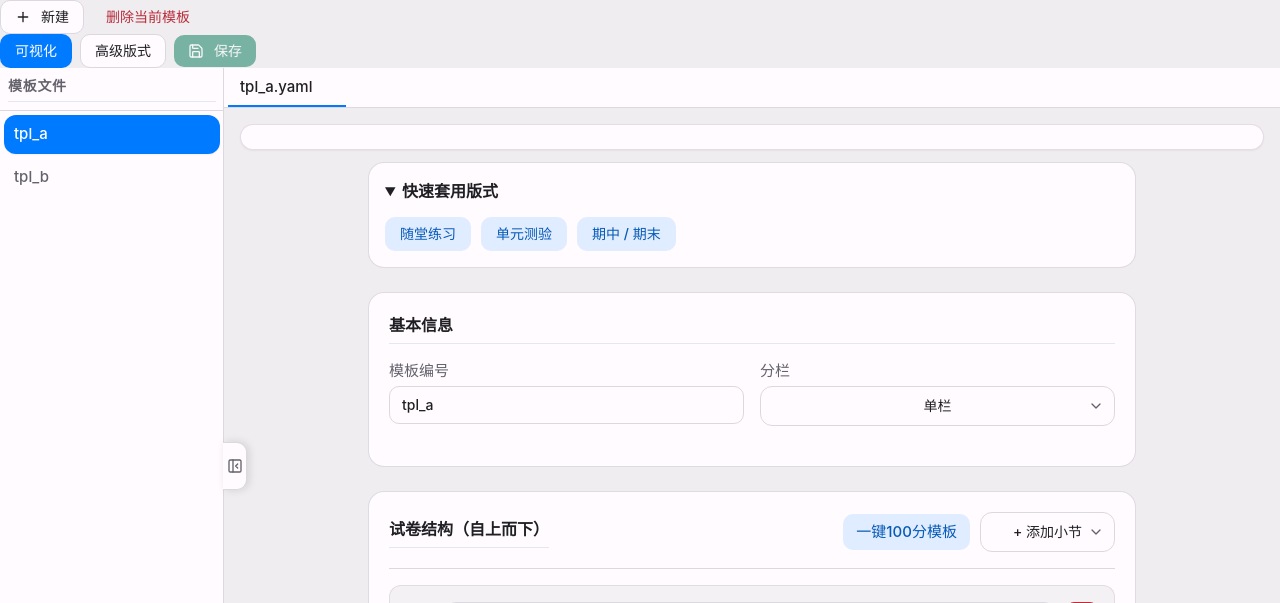
Test case: TemplateWorkspace async coordination › does not wipe out user typing when save response arrives
The image size is (1280, 603).
// User edits template_id to "tpl_a_edited"
Replace the text in the field showing "tpl_a" with "tpl_a_edited" at (566, 405), box [389,386,744,424]
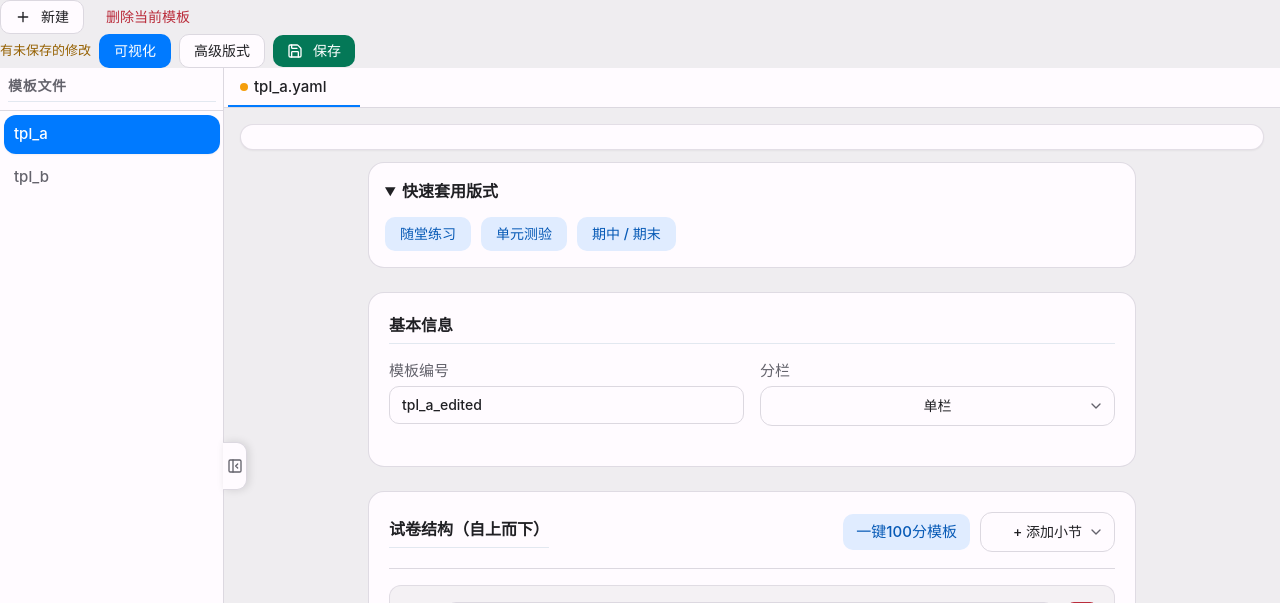
// User clicks save
Click the button "保存".
click(314, 51)  # box [273,35,355,67]
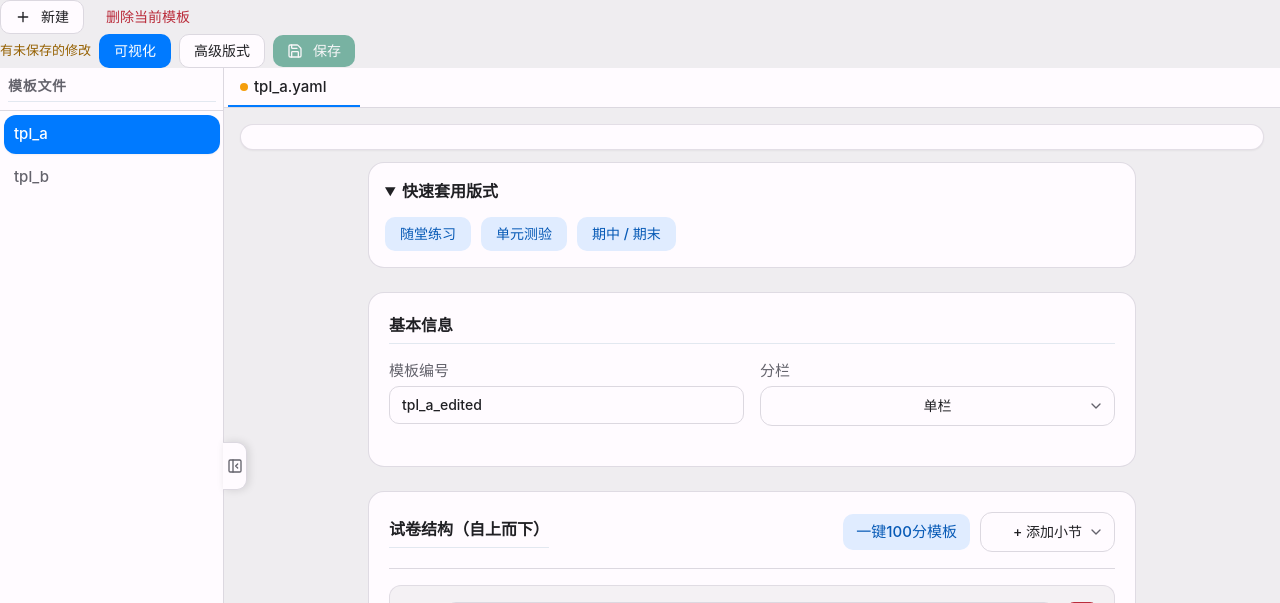
// While save is inflight, user continues typing
Replace the text in the field showing "tpl_a_edited" with "tpl_a_edited_further" at (566, 405), box [389,386,744,424]
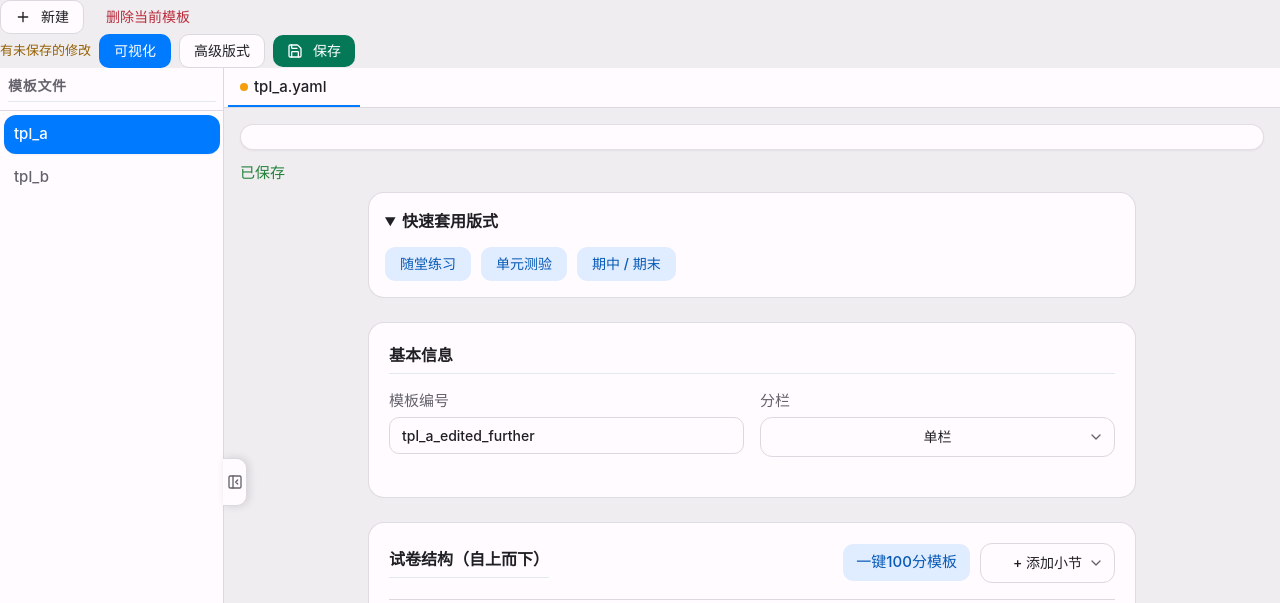
Expected: the text "已保存" is shown, [240,163,285,182]
